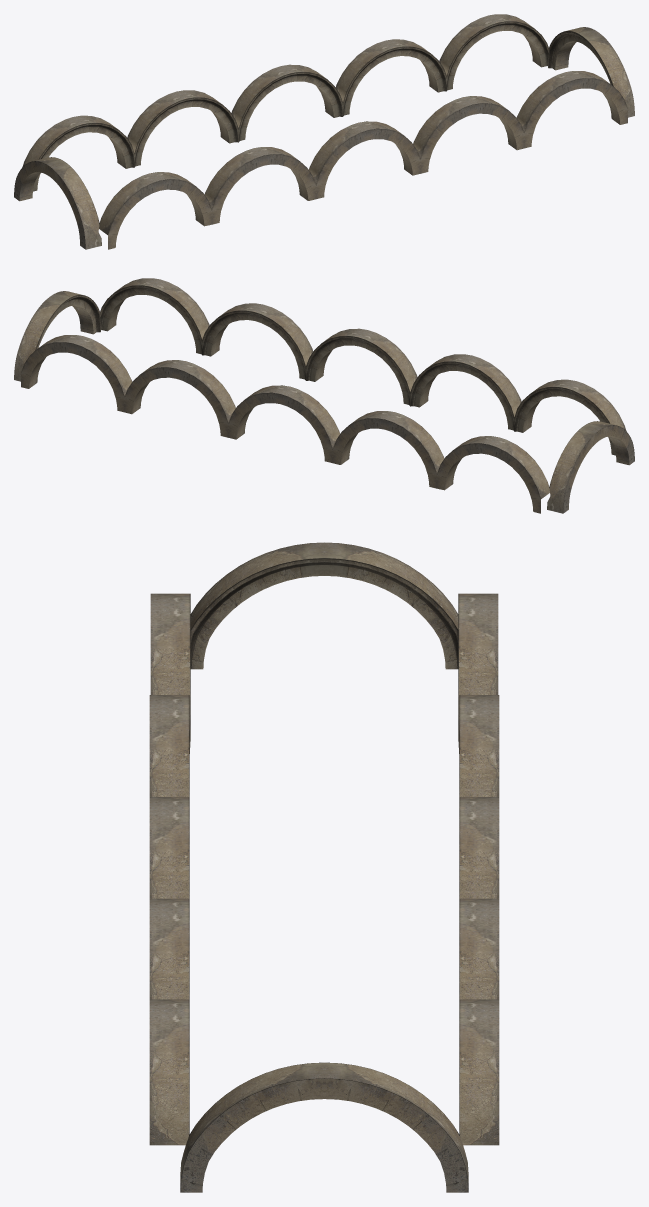
The model's file is Sponza42.gltf.
3 renders of one model, top to bottom at view 1: azimuth 30°, elevation 25°; view 2: azimuth 150°, elevation 25°; view 3: azimuth 270°, elevation 25°, orthographic. The views are drawn at different scales.
Bounding box in the file's own units: 15.63 × 1.59 × 4.31.
1 material, 1 textured.
